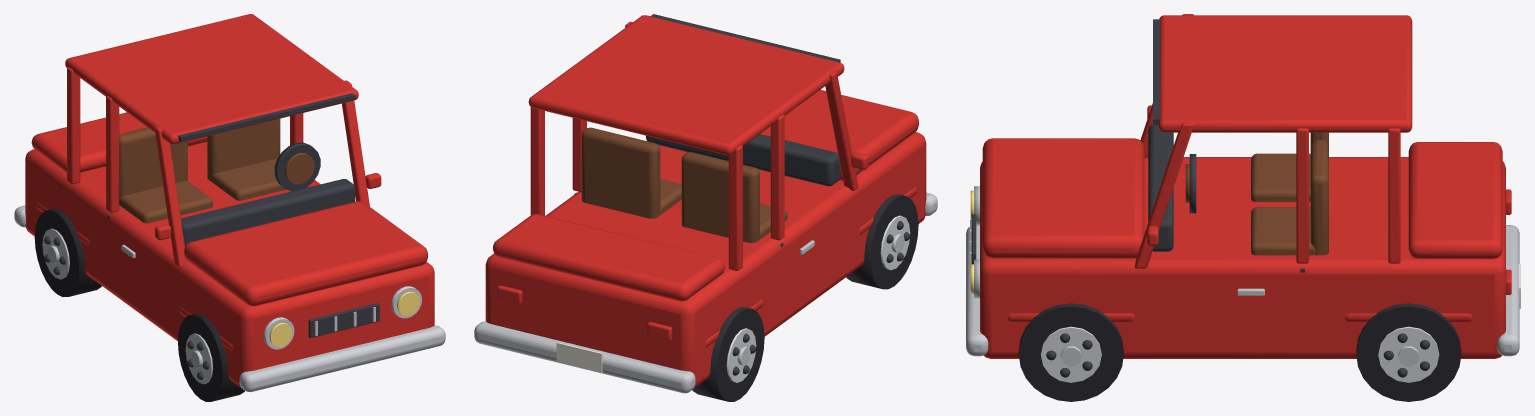
File: car.glb
3 views of the same model, side by side, from view 1: azimuth 30°, elevation 25°; view 2: azimuth 150°, elevation 25°; view 3: azimuth 270°, elevation 25° (orthographic). The views are drawn at different scales.
Parts seen in each view (by area): view 1: body, wheelFR, wheelBR; view 2: body, wheelFR, wheelBR; view 3: body, wheelFL, wheelBL.
Boxes of the visible parts, <box> form: body: <box>14,14,445,392</box>; wheelFR: <box>178,314,244,401</box>; wheelBR: <box>34,209,101,296</box>; body: <box>474,14,937,393</box>; wheelFR: <box>846,194,918,289</box>; wheelBR: <box>692,307,764,401</box>; body: <box>966,14,1520,358</box>; wheelFL: <box>1018,303,1123,401</box>; wheelBL: <box>1356,303,1461,401</box>.
Bounding box in the file's own units: 2.66 × 2.66 × 4.85.
